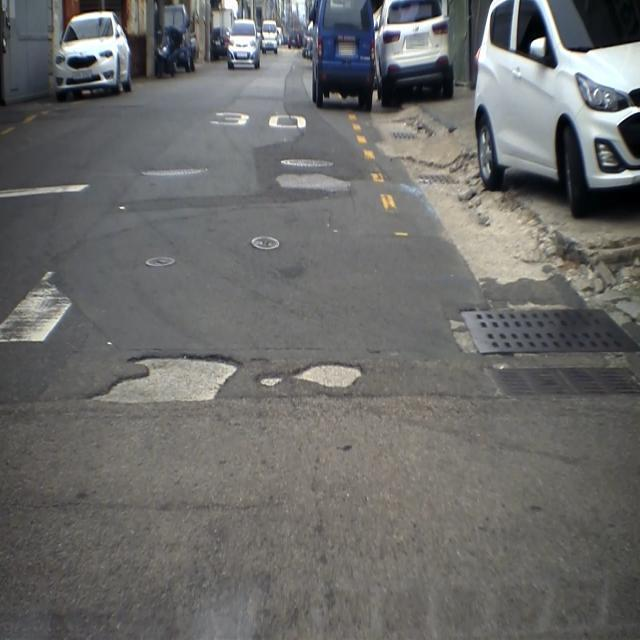Buraco: (82, 352, 244, 406), (288, 358, 369, 391), (252, 370, 288, 389)
